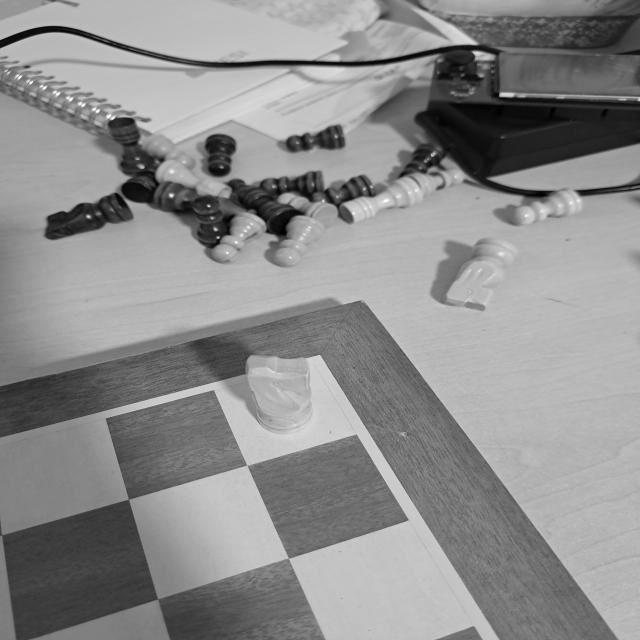chess-table-corners: (310, 348, 330, 362)
